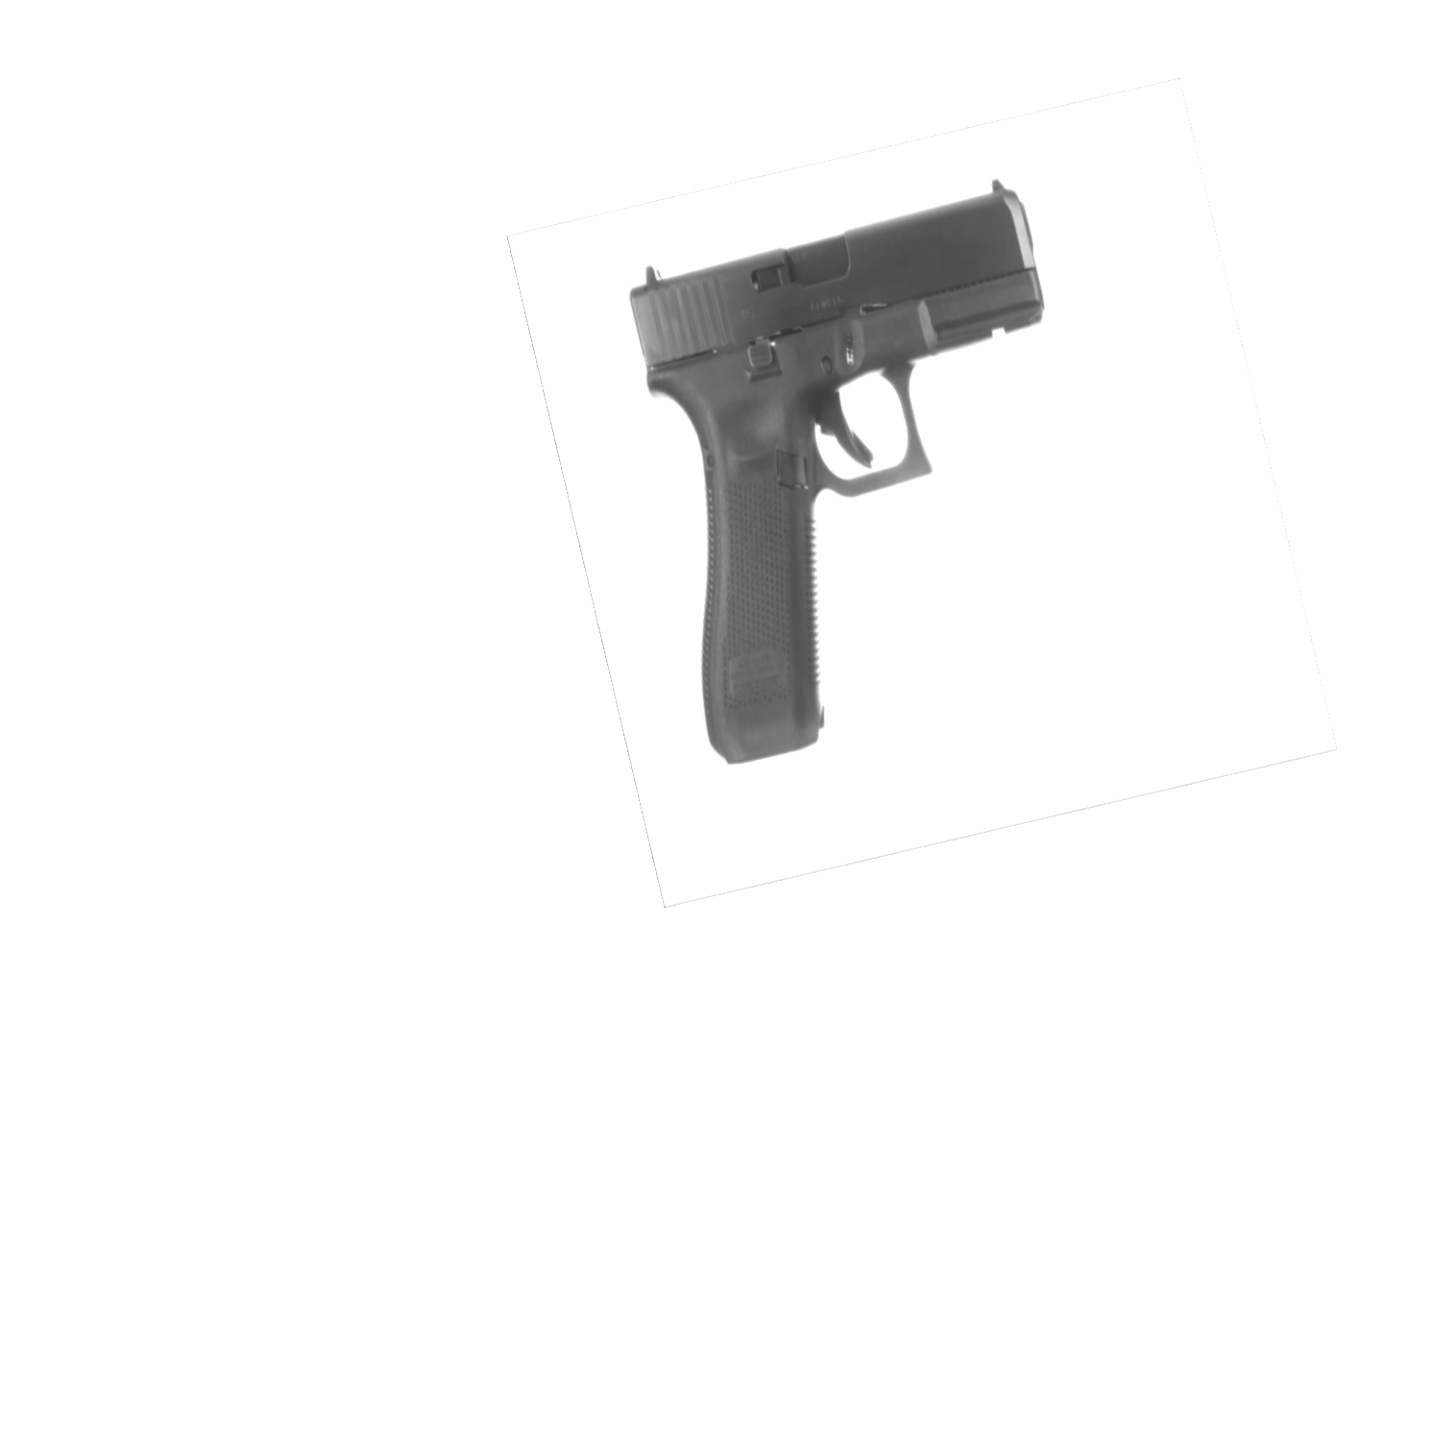gun: (624, 176, 1048, 764)
